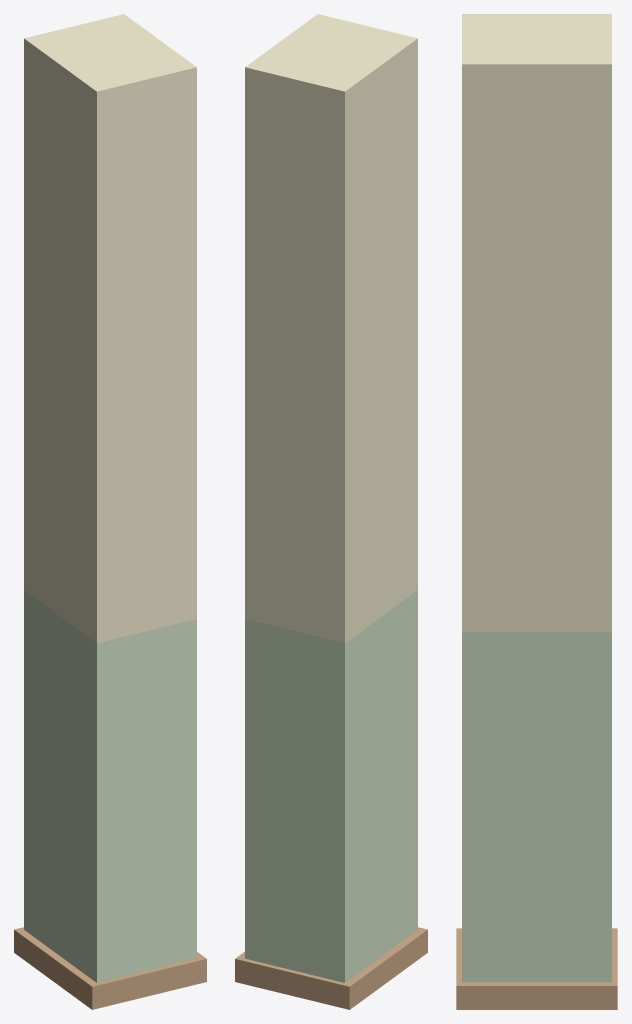
File: pillar_2.fbx
3 renders of one model, left to right at view 1: azimuth 30°, elevation 25°; view 2: azimuth 150°, elevation 25°; view 3: azimuth 270°, elevation 25°, orthographic. The views are drawn at different scales.
Visible parts, largest first — view 1: Cube; view 2: Cube; view 3: Cube.
Boxes of the visible parts, <box> form: Cube: <box>14,14,206,1009</box>; Cube: <box>235,14,427,1009</box>; Cube: <box>456,14,617,1009</box>.
Size of the model in its own units: 11.72 by 89.3 by 13.85.
